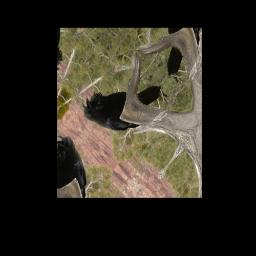Crow: (77, 46, 166, 154)
